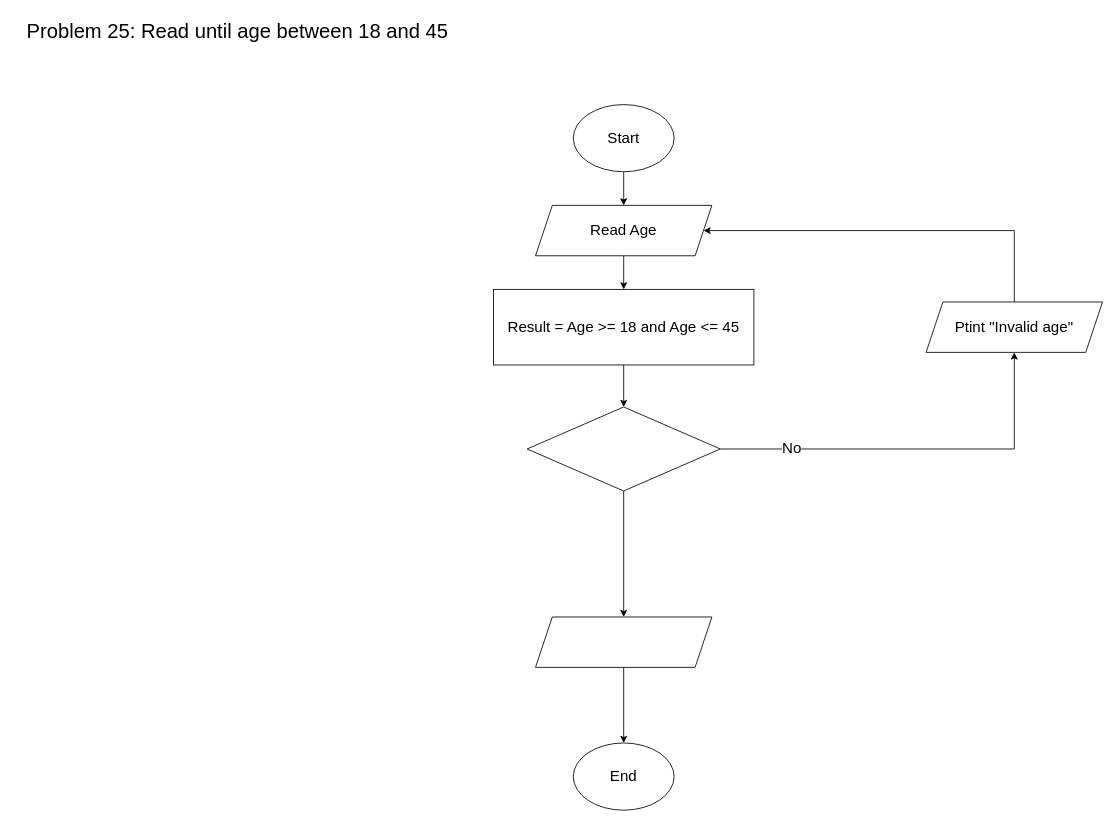
Image size: 1117x825. Some labels were removed from this diagram. The centre of each missing label's shape, as x and y in pixels:
Ptint "Valid age": (623,641)
Result = True: (623,448)
